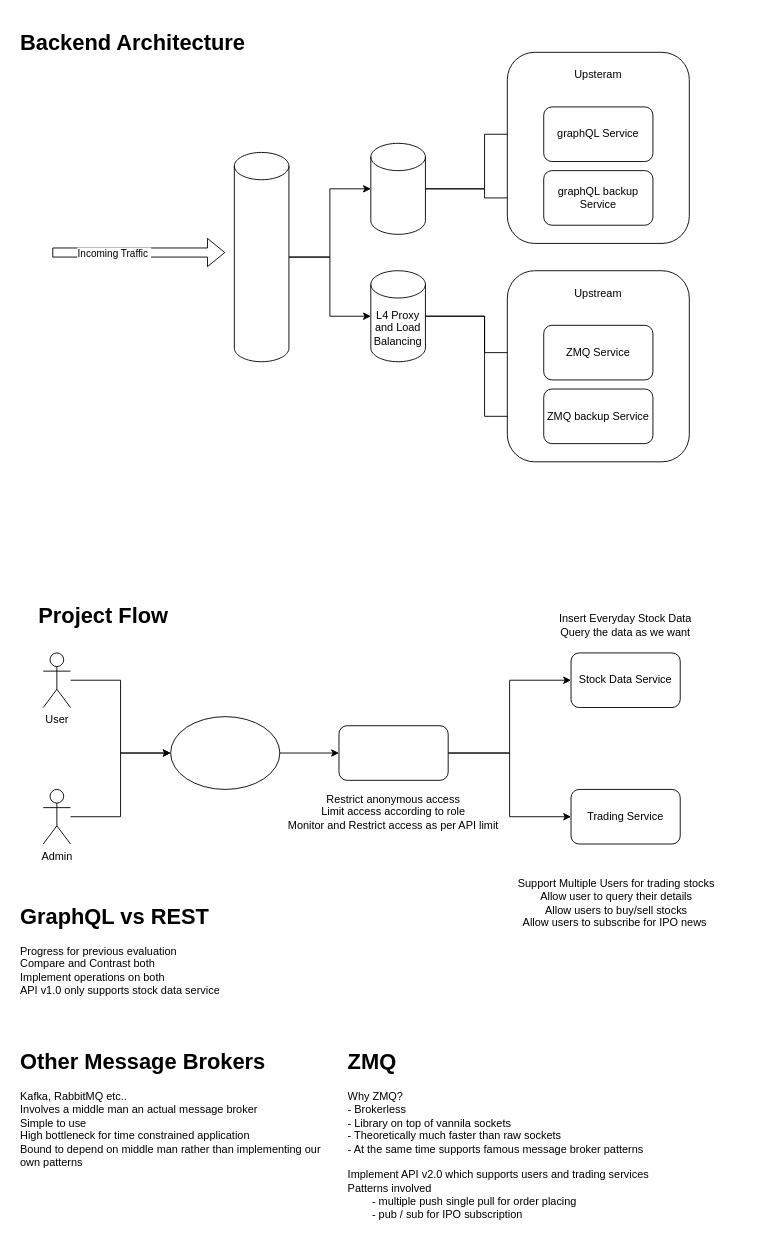
This 777x1250 diagram has some shape labels left out. Each missing label, with the box of its shape:
Authentication Service: (338, 725, 448, 780)
L7 Proxy and Load Balancing: (370, 142, 425, 234)
Nginx: (233, 152, 289, 362)
StockTimes Service: (170, 716, 280, 789)
